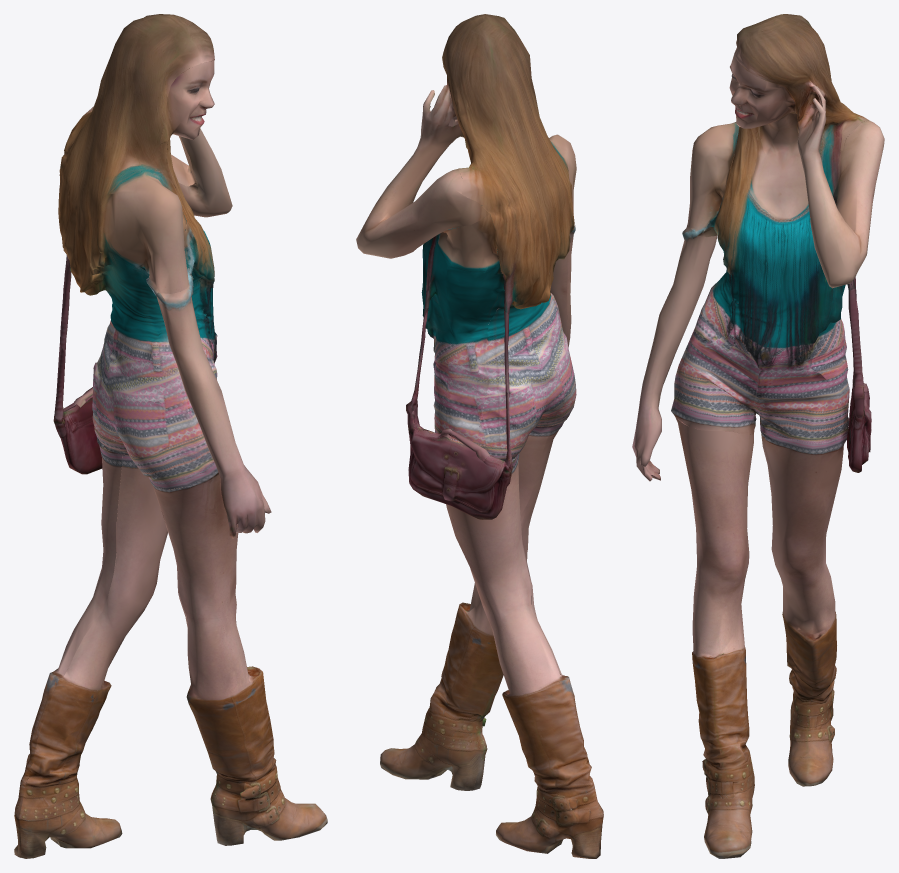
The model's file is people_girl_stoji.glb.
3 renders of one model, left to right at view 1: azimuth 30°, elevation 25°; view 2: azimuth 150°, elevation 25°; view 3: azimuth 270°, elevation 25°, orthographic. The views are drawn at different scales.
Bounding box in the file's own units: 0.5708 × 1.68 × 0.49.
Materials: 1 (1 with a texture image).
